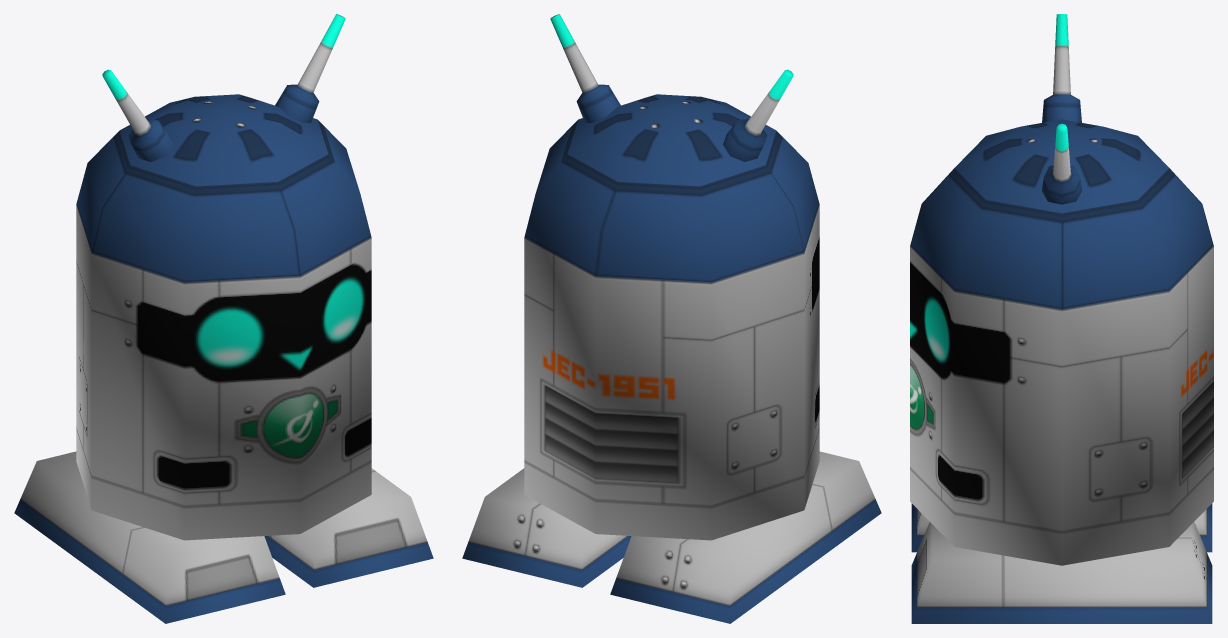
File: MazeRobo.fbx
The picture shows the model from 3 angles, left to right: view 1: azimuth 30°, elevation 25°; view 2: azimuth 150°, elevation 25°; view 3: azimuth 270°, elevation 25°; orthographic projection.
Visible parts, largest first — view 1: Player; view 2: Player; view 3: Player.
Boxes of the visible parts, x1,y1,x2,y2 form: Player: (14,14,433,623); Player: (462,14,881,623); Player: (910,14,1213,623).
Size of the model in its own units: 101 by 177 by 99.49.
